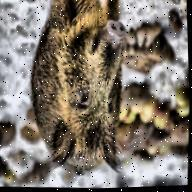boar: (21, 0, 135, 186)
